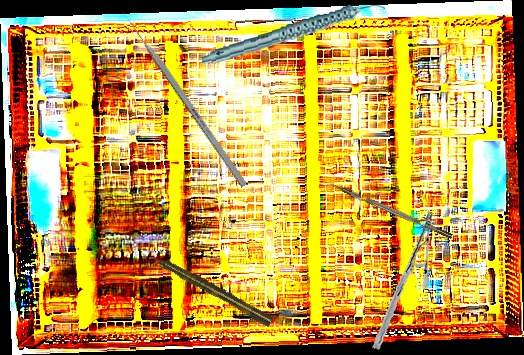Chopper: (321, 177, 453, 246)
Handpiece: (198, 1, 389, 66), (146, 249, 275, 329)
Needle Holder: (356, 209, 451, 351)
Pusher: (117, 6, 249, 188)
